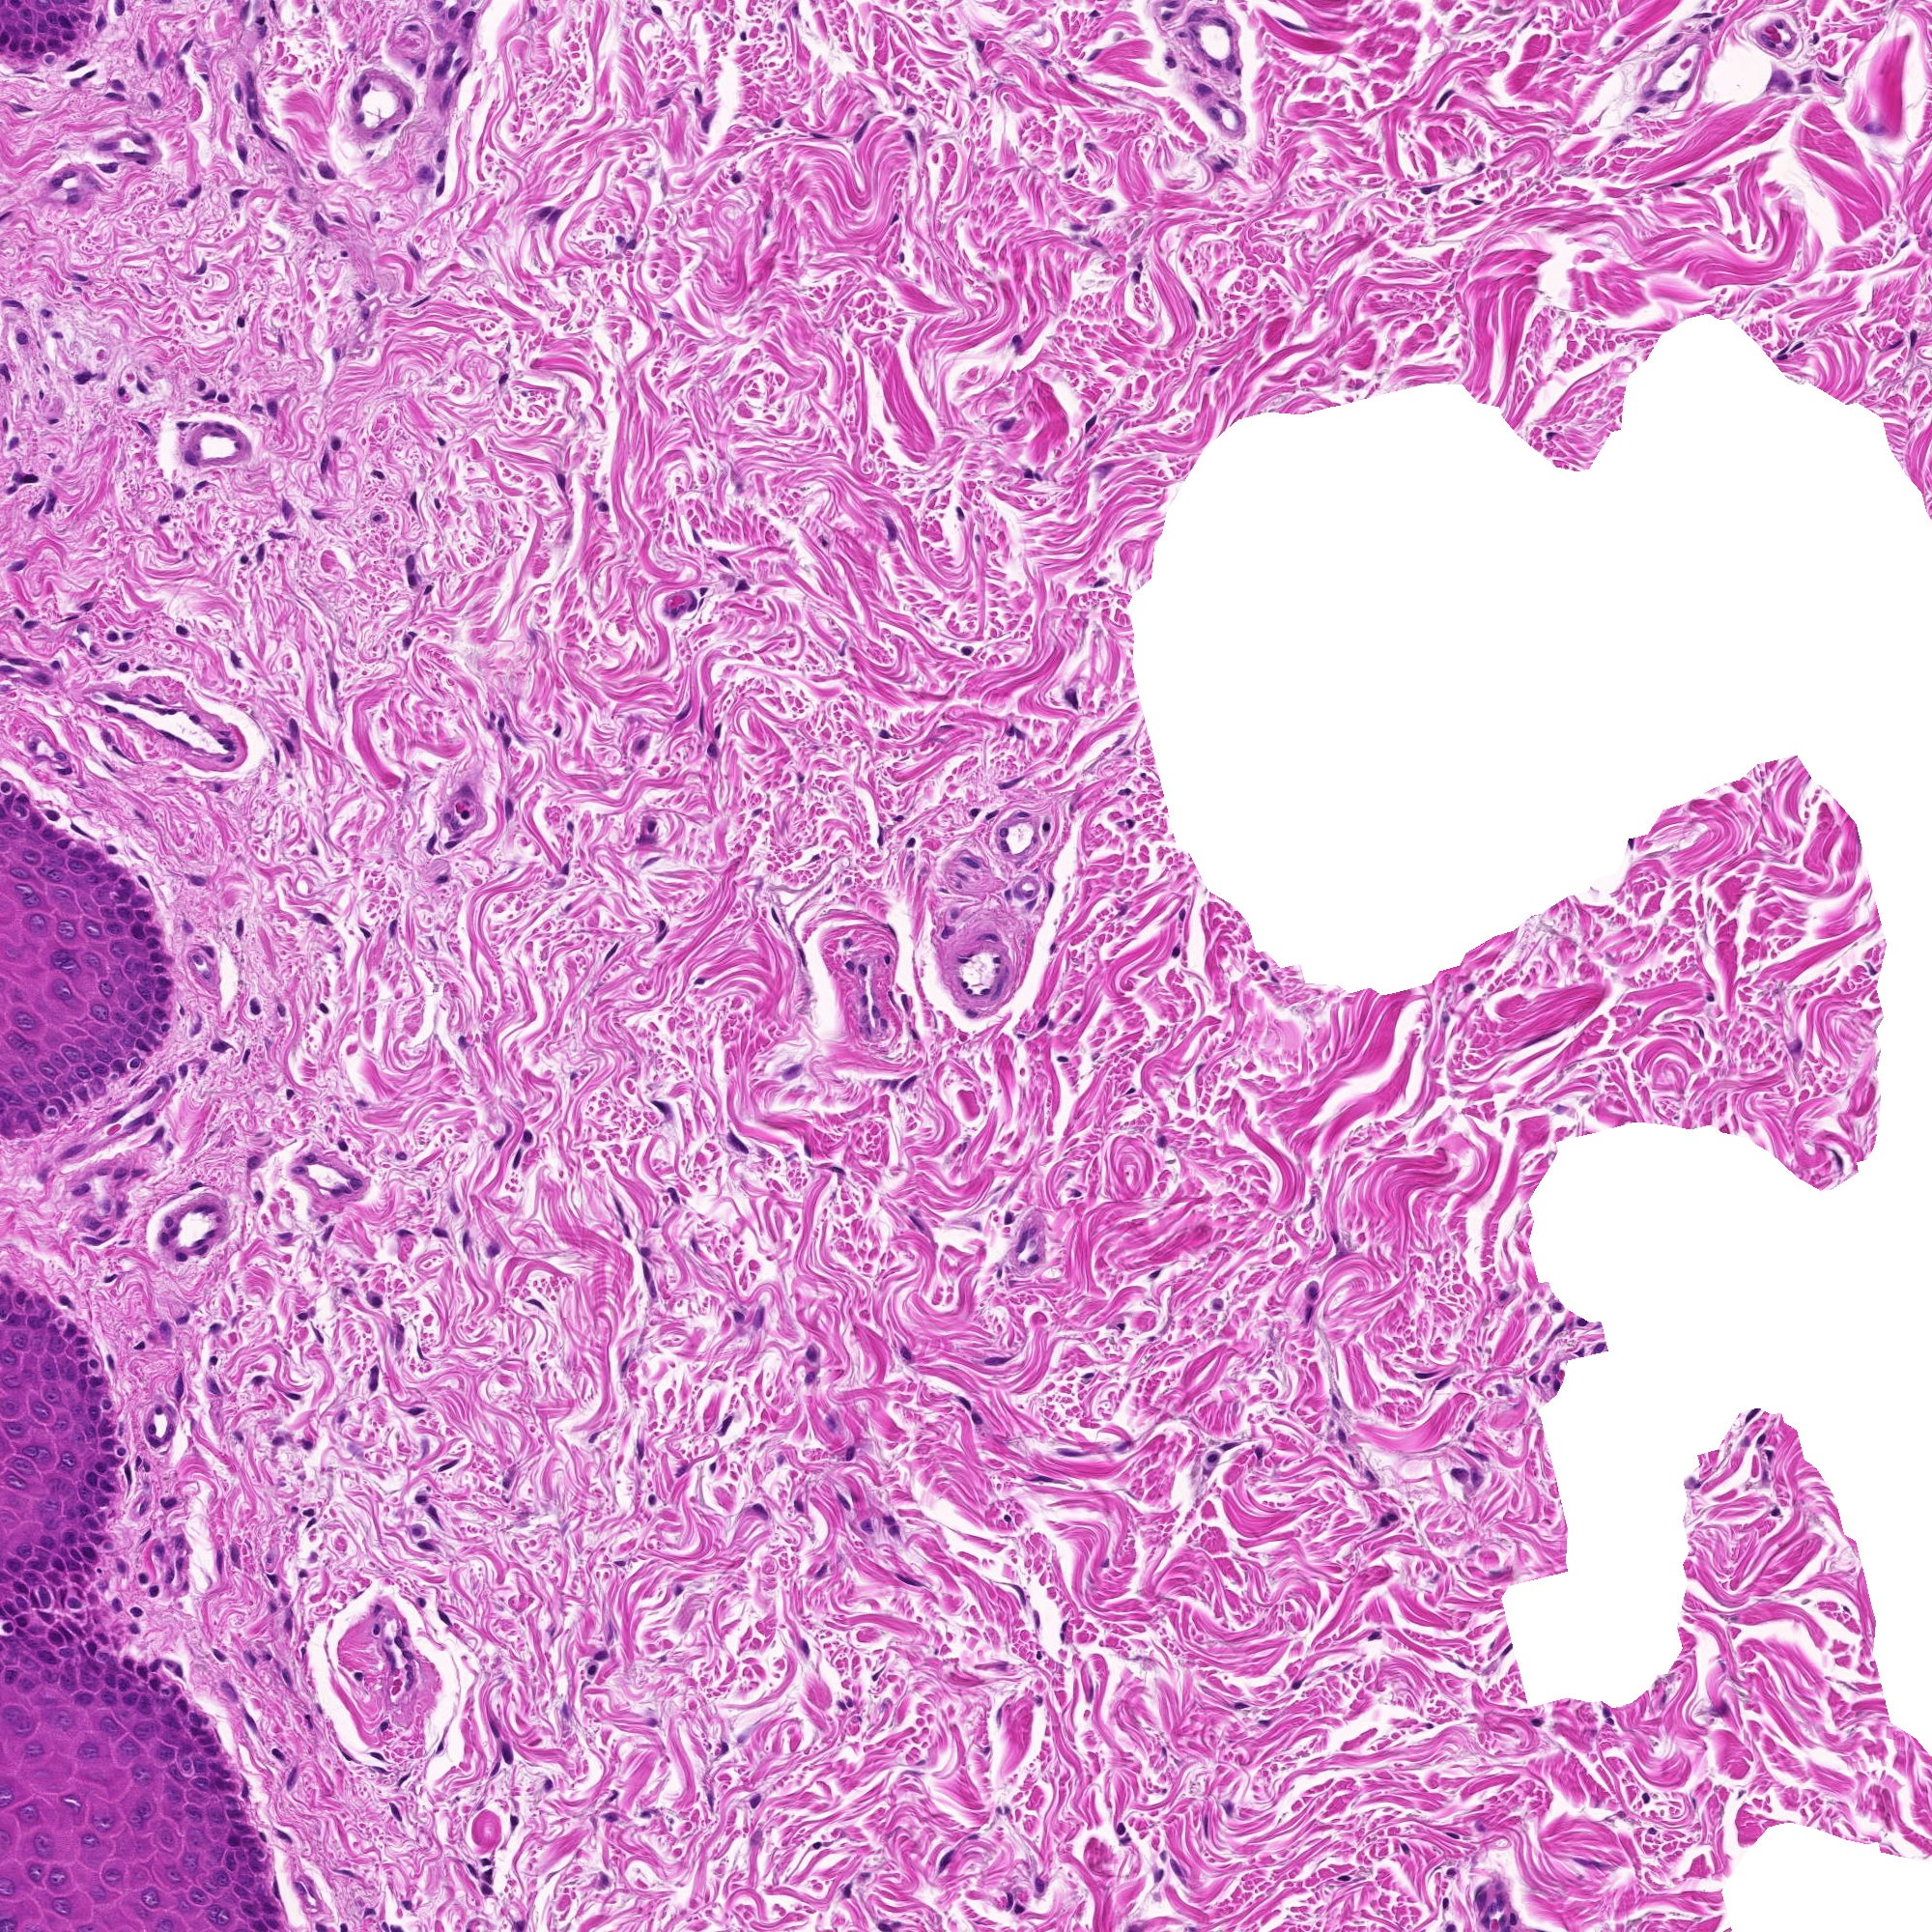epithelial: (2, 805, 34, 839), (71, 1734, 104, 1766), (9, 34, 41, 65), (53, 19, 85, 51), (34, 39, 65, 71), (435, 30, 467, 62), (25, 19, 57, 51), (320, 338, 352, 370), (361, 117, 393, 149), (11, 48, 42, 80), (120, 915, 152, 947), (96, 855, 127, 886), (50, 941, 81, 973), (5, 789, 37, 821), (11, 796, 42, 828), (18, 823, 50, 855), (78, 918, 110, 950), (127, 876, 159, 908), (96, 865, 127, 897), (27, 832, 58, 863), (111, 922, 143, 954), (76, 941, 108, 973), (103, 1049, 134, 1081), (25, 1090, 57, 1122), (55, 1315, 87, 1346), (88, 1040, 120, 1072), (145, 978, 177, 1010), (65, 1369, 97, 1401), (9, 1100, 41, 1132), (18, 1286, 50, 1318), (4, 1026, 35, 1058), (30, 1299, 62, 1330), (53, 1359, 85, 1391), (34, 1093, 65, 1125), (191, 1192, 223, 1224), (74, 1415, 106, 1447), (30, 1053, 62, 1085), (74, 1389, 106, 1421), (65, 1421, 97, 1453), (2, 1058, 34, 1090), (65, 1355, 97, 1387), (27, 1159, 58, 1191), (71, 1042, 103, 1074), (51, 1067, 83, 1099), (96, 1021, 127, 1053), (25, 1315, 57, 1346), (134, 994, 166, 1026), (34, 1345, 65, 1376), (191, 959, 223, 991), (85, 1401, 117, 1433), (37, 1024, 69, 1056), (4, 1095, 35, 1127), (4, 1571, 35, 1603), (218, 1824, 249, 1856), (23, 1548, 55, 1580), (30, 1601, 62, 1633), (74, 1537, 106, 1569), (76, 1631, 108, 1663), (5, 1605, 37, 1637), (87, 1449, 119, 1481), (30, 1640, 62, 1672), (16, 1562, 48, 1594), (37, 1562, 69, 1594), (80, 1454, 111, 1486), (67, 1683, 99, 1714), (58, 1614, 90, 1645), (126, 1656, 157, 1688), (32, 1527, 64, 1559), (195, 1727, 226, 1759), (18, 1583, 50, 1615), (67, 1493, 99, 1525), (81, 1523, 113, 1555), (226, 1812, 258, 1844), (96, 1647, 127, 1679), (180, 1714, 212, 1746), (50, 1583, 81, 1615), (60, 1557, 92, 1589), (76, 1507, 108, 1539), (244, 1898, 276, 1930), (74, 1667, 106, 1698), (134, 1679, 166, 1711), (74, 1548, 106, 1580), (202, 1801, 234, 1833), (88, 1640, 120, 1672), (248, 1884, 280, 1916), (142, 1675, 173, 1707), (87, 1490, 119, 1522), (188, 1741, 219, 1773), (127, 1716, 159, 1748), (76, 1582, 108, 1614), (159, 1697, 191, 1729), (173, 1702, 205, 1734), (34, 1573, 65, 1605), (2, 1622, 34, 1654), (134, 1713, 166, 1744), (27, 1440, 58, 1472), (46, 1614, 78, 1645), (35, 1610, 67, 1642), (96, 1633, 127, 1665), (74, 1824, 106, 1856), (12, 1796, 44, 1828), (9, 1557, 41, 1589), (136, 1881, 168, 1913), (226, 1833, 258, 1865), (175, 1847, 207, 1879), (117, 1674, 149, 1706), (35, 1647, 67, 1679), (2, 1704, 34, 1736), (41, 1665, 73, 1697), (234, 1881, 265, 1913), (161, 1863, 193, 1895), (150, 1821, 182, 1852), (81, 1683, 113, 1714), (108, 1698, 140, 1730), (35, 1488, 67, 1520), (156, 1769, 188, 1801), (39, 1532, 71, 1564), (103, 1440, 134, 1472), (73, 1484, 104, 1516), (214, 1812, 246, 1844), (18, 1651, 50, 1683), (101, 1660, 133, 1691), (205, 1789, 237, 1821), (791, 978, 823, 1010), (740, 1822, 771, 1854), (1345, 225, 1376, 257), (1185, 1214, 1217, 1246), (134, 915, 165, 948), (35, 828, 69, 858), (50, 844, 80, 878), (65, 1329, 96, 1362), (69, 1056, 103, 1086), (127, 1017, 157, 1051), (44, 1311, 78, 1341), (88, 1477, 119, 1511), (64, 1568, 94, 1601), (41, 1580, 74, 1610), (50, 1564, 83, 1594), (62, 1599, 96, 1629), (62, 1527, 96, 1557), (51, 1608, 85, 1638), (50, 7, 81, 37), (23, 30, 55, 60), (11, 14, 42, 44), (37, 28, 69, 58), (35, 19, 67, 50), (21, 12, 51, 44), (16, 5, 48, 35), (58, 180, 88, 212), (0, 30, 32, 60), (143, 44, 175, 74), (4, 18, 34, 50), (19, 37, 50, 69), (65, 0, 97, 30), (48, 30, 78, 62), (265, 327, 295, 359), (44, 14, 76, 44), (5, 5, 35, 37), (110, 899, 142, 929), (99, 913, 131, 943), (48, 828, 80, 858), (142, 941, 172, 973), (32, 817, 62, 849), (126, 908, 157, 938), (138, 925, 168, 957), (124, 885, 154, 916), (14, 840, 46, 870), (92, 897, 122, 929), (87, 878, 117, 909), (81, 856, 113, 886), (67, 839, 97, 870), (80, 863, 110, 895), (35, 858, 65, 890), (120, 899, 150, 931), (103, 932, 134, 962), (42, 837, 73, 869), (7, 858, 37, 890), (449, 775, 481, 805), (57, 833, 87, 865), (117, 943, 149, 973), (120, 925, 150, 957), (51, 920, 83, 950), (41, 849, 71, 881), (74, 909, 106, 939), (41, 941, 71, 973), (35, 840, 65, 872), (42, 816, 73, 847), (30, 853, 60, 885), (14, 814, 44, 846), (88, 915, 120, 945), (113, 908, 143, 939), (4, 876, 35, 906), (46, 911, 78, 941), (96, 881, 127, 911), (127, 1031, 159, 1062), (78, 1398, 110, 1428), (81, 1366, 111, 1398), (143, 998, 175, 1028), (147, 968, 179, 998), (19, 1307, 51, 1338), (67, 1077, 97, 1109), (83, 1054, 115, 1085), (4, 1283, 35, 1313), (120, 1046, 152, 1076), (46, 1090, 76, 1122), (92, 1412, 122, 1444), (37, 1315, 67, 1346), (129, 978, 161, 1008), (104, 1001, 134, 1033), (0, 1304, 30, 1336), (34, 1355, 64, 1387), (41, 1329, 73, 1359), (51, 1081, 83, 1111), (34, 1072, 64, 1104), (119, 1014, 150, 1044), (4, 1327, 35, 1357), (12, 1299, 42, 1330), (90, 1389, 122, 1419), (48, 980, 78, 1012), (117, 1023, 147, 1054), (62, 1394, 92, 1426), (25, 1398, 57, 1428), (85, 1000, 117, 1030), (80, 1376, 110, 1408), (78, 1207, 108, 1238), (60, 1322, 90, 1353), (134, 1005, 165, 1037), (90, 973, 122, 1003), (134, 1024, 166, 1054), (2, 1085, 32, 1116), (55, 1037, 87, 1067), (14, 1030, 44, 1062), (149, 991, 179, 1023), (58, 1063, 90, 1093), (2, 980, 32, 1012), (104, 1192, 136, 1223), (4, 993, 34, 1024), (81, 1067, 113, 1097), (81, 1412, 113, 1442), (46, 1408, 76, 1440), (28, 1288, 58, 1320), (35, 1380, 67, 1410), (110, 978, 140, 1010), (19, 1391, 51, 1421), (50, 1350, 81, 1380), (60, 1339, 92, 1369), (41, 1077, 73, 1108), (71, 1031, 103, 1062), (111, 1008, 142, 1040), (122, 973, 154, 1003), (5, 1293, 35, 1325), (0, 1369, 30, 1401), (35, 1062, 65, 1093), (19, 1325, 50, 1357), (103, 959, 133, 991), (39, 1352, 71, 1382), (30, 1085, 62, 1115), (18, 1010, 48, 1042), (11, 1085, 41, 1116), (57, 985, 87, 1017), (41, 1622, 73, 1652), (7, 1536, 39, 1566), (140, 1667, 170, 1698), (55, 1522, 85, 1553), (28, 1582, 58, 1614), (42, 1548, 73, 1580), (108, 1668, 140, 1698), (166, 1690, 198, 1720), (111, 1654, 142, 1686), (90, 1470, 122, 1500), (113, 1684, 145, 1714), (234, 1895, 265, 1925), (203, 1767, 234, 1799), (182, 1706, 214, 1736), (196, 1737, 228, 1767), (53, 1667, 83, 1698), (214, 1845, 244, 1877), (16, 1629, 48, 1660), (218, 1798, 249, 1828), (78, 1651, 108, 1683), (51, 1637, 81, 1668), (253, 1893, 285, 1923), (129, 1690, 161, 1720), (184, 1748, 214, 1780), (58, 1545, 90, 1575), (207, 1757, 237, 1789), (150, 1739, 182, 1769), (51, 1621, 81, 1652), (19, 1614, 51, 1644), (161, 1759, 191, 1790), (205, 1861, 237, 1891), (88, 1622, 119, 1654), (67, 1476, 99, 1506), (58, 1497, 88, 1529), (51, 1550, 83, 1580), (34, 1660, 64, 1691), (234, 1829, 265, 1859), (147, 1686, 177, 1718), (53, 1654, 85, 1684), (12, 1668, 42, 1700), (12, 1440, 44, 1470), (71, 1656, 103, 1686), (232, 1865, 264, 1895), (159, 1716, 189, 1748), (157, 1674, 188, 1706), (188, 1720, 218, 1752), (182, 1879, 212, 1911), (212, 1771, 244, 1801), (172, 1748, 202, 1780), (67, 1626, 97, 1658), (182, 1727, 214, 1757), (18, 1856, 50, 1886), (12, 1644, 42, 1675), (119, 1665, 150, 1695), (202, 1897, 234, 1927), (258, 1881, 290, 1911), (23, 1635, 53, 1667), (97, 1858, 129, 1888), (34, 1509, 65, 1539), (18, 1573, 48, 1605), (115, 1734, 145, 1766), (39, 1867, 69, 1898), (223, 1805, 255, 1835), (30, 1619, 62, 1649), (198, 1760, 230, 1790), (28, 1536, 58, 1568), (55, 1532, 87, 1562), (90, 1658, 122, 1688), (90, 1805, 122, 1835), (19, 1603, 51, 1633), (51, 1891, 81, 1923), (67, 1640, 99, 1670), (14, 1543, 44, 1575), (69, 1615, 101, 1645), (25, 1596, 57, 1626), (244, 1867, 274, 1898), (202, 1815, 234, 1845), (156, 1727, 186, 1759), (78, 1529, 108, 1560), (85, 1879, 115, 1911), (32, 1591, 62, 1622), (124, 1806, 156, 1836), (251, 1875, 281, 1907), (161, 1799, 191, 1831), (241, 1888, 271, 1920), (103, 1686, 134, 1716), (212, 1854, 242, 1886), (27, 1626, 58, 1656), (209, 1900, 241, 1930), (129, 1764, 161, 1794), (228, 1787, 258, 1819), (106, 1463, 136, 1495), (58, 1790, 88, 1822), (35, 1545, 65, 1576), (228, 1851, 260, 1881), (74, 1518, 104, 1550), (150, 1900, 182, 1930), (198, 1872, 230, 1902), (129, 1898, 159, 1930), (127, 1704, 157, 1736), (170, 1891, 200, 1923), (60, 1633, 90, 1665), (65, 1674, 97, 1704), (180, 1783, 211, 1815), (150, 1714, 182, 1744), (42, 1592, 73, 1624), (156, 1856, 188, 1886), (30, 1835, 60, 1867), (80, 1555, 110, 1587), (173, 1766, 205, 1796), (44, 1442, 76, 1472), (165, 1711, 196, 1741), (816, 1407, 846, 1438), (508, 1499, 538, 1530), (550, 1695, 580, 1727), (594, 1617, 626, 1647), (538, 1615, 568, 1647), (1090, 453, 1120, 485), (1180, 0, 1212, 30), (975, 920, 1005, 952), (1108, 893, 1138, 925), (1058, 789, 1088, 821), (971, 977, 1001, 1008), (984, 970, 1014, 1001), (1320, 1385, 1350, 1417), (1369, 1559, 1399, 1591), (1074, 1677, 1106, 1707), (1076, 1829, 1108, 1859), (1679, 789, 1711, 819), (1780, 1033, 1812, 1063), (1578, 985, 1610, 1016), (1484, 1886, 1514, 1918), (1488, 1898, 1520, 1928), (1707, 1693, 1737, 1725), (1465, 1810, 1495, 1842), (37, 5, 67, 35), (12, 0, 42, 30), (92, 131, 122, 161), (437, 0, 467, 30), (19, 805, 50, 835), (108, 879, 138, 909), (60, 846, 90, 876), (110, 870, 140, 901), (78, 840, 108, 870), (103, 860, 133, 890), (12, 883, 42, 913), (88, 862, 119, 892), (25, 812, 55, 842), (129, 931, 159, 961), (71, 849, 101, 879), (19, 886, 50, 916), (21, 909, 51, 939), (65, 869, 96, 899), (129, 943, 159, 973), (119, 879, 149, 909), (0, 817, 30, 847), (50, 881, 80, 911), (127, 920, 157, 950), (113, 886, 143, 916), (76, 1350, 106, 1380), (127, 1001, 157, 1031), (19, 1109, 50, 1139), (119, 991, 149, 1021), (131, 968, 161, 998), (16, 1076, 46, 1106), (4, 1415, 34, 1445), (9, 1007, 39, 1037), (60, 1364, 90, 1394), (12, 1359, 42, 1389), (73, 1362, 103, 1392), (50, 1325, 80, 1355), (42, 973, 73, 1003), (94, 1422, 124, 1453), (44, 1046, 74, 1076), (97, 1037, 127, 1067), (94, 1053, 124, 1083), (83, 1422, 113, 1453), (104, 1023, 134, 1053), (32, 1389, 62, 1419), (76, 1463, 106, 1493), (7, 1585, 37, 1615), (94, 1683, 124, 1713), (60, 1589, 90, 1619), (156, 1706, 186, 1736), (51, 1451, 81, 1481), (239, 1840, 269, 1870), (186, 1767, 216, 1798), (241, 1851, 271, 1881), (179, 1798, 209, 1828), (5, 1596, 35, 1626), (97, 1445, 127, 1476), (228, 1874, 258, 1904), (87, 1502, 117, 1532), (225, 1773, 255, 1803), (80, 1642, 110, 1672), (92, 1711, 122, 1741), (159, 1780, 189, 1810), (126, 1798, 156, 1828), (216, 1789, 246, 1819), (223, 1842, 253, 1872), (106, 1645, 136, 1675), (41, 1856, 71, 1886), (48, 1537, 78, 1568), (65, 1550, 96, 1580), (42, 1470, 73, 1500), (202, 1836, 232, 1867), (42, 1569, 73, 1599), (184, 1776, 214, 1806), (55, 1444, 85, 1474), (19, 1736, 50, 1766), (175, 1721, 205, 1752), (27, 1829, 57, 1859), (78, 1472, 108, 1502), (122, 1755, 152, 1785), (0, 1637, 30, 1667), (76, 1603, 106, 1633), (5, 1449, 35, 1479), (159, 1736, 189, 1766), (288, 1874, 318, 1904), (32, 1686, 62, 1716), (7, 1468, 37, 1499), (81, 1612, 111, 1642), (193, 1799, 223, 1829), (180, 1824, 211, 1854), (41, 1637, 71, 1667), (32, 1555, 62, 1585), (211, 1782, 241, 1812), (9, 1456, 39, 1486), (51, 1476, 81, 1506), (28, 1495, 58, 1525), (246, 1844, 276, 1874), (235, 1817, 265, 1847), (625, 729, 655, 759), (552, 518, 582, 548), (518, 621, 548, 651), (851, 1012, 881, 1042), (609, 1350, 639, 1380), (479, 1235, 510, 1265), (869, 1902, 899, 1932), (1353, 32, 1384, 62), (1302, 28, 1332, 58), (982, 943, 1012, 973), (1859, 113, 1890, 143), (1810, 796, 1840, 826), (1847, 1093, 1877, 1123), (1476, 1893, 1506, 1923), (1465, 1882, 1495, 1913), (1472, 1900, 1502, 1930), (127, 893, 156, 925), (2, 1550, 30, 1582), (25, 1566, 57, 1594), (96, 1456, 124, 1488), (127, 1675, 156, 1707), (32, 12, 62, 41), (145, 1010, 175, 1039), (0, 1392, 28, 1422), (96, 1665, 124, 1695), (202, 1752, 230, 1782), (172, 1734, 202, 1762), (12, 1617, 41, 1647), (0, 1661, 28, 1691), (257, 1902, 287, 1930), (9, 1713, 39, 1741), (0, 1610, 28, 1640)
fibroblast and endothelial: (165, 51, 196, 85), (150, 708, 182, 741), (142, 1534, 175, 1566), (1196, 1442, 1230, 1474), (1734, 1421, 1767, 1453), (207, 382, 239, 414), (193, 377, 225, 409), (244, 5, 276, 37), (310, 156, 341, 188), (425, 140, 456, 172), (244, 391, 276, 423), (444, 51, 476, 83), (203, 412, 235, 444), (85, 5, 117, 37), (133, 41, 165, 73), (5, 322, 37, 354), (106, 134, 138, 166), (25, 379, 57, 410), (276, 177, 308, 209), (246, 14, 278, 46), (442, 64, 474, 96), (57, 165, 88, 196), (87, 361, 119, 393), (94, 694, 126, 725), (244, 536, 276, 568), (301, 499, 333, 531), (5, 600, 37, 632), (264, 738, 295, 770), (60, 812, 92, 844), (271, 492, 303, 524), (349, 916, 380, 948), (426, 824, 458, 856), (391, 625, 423, 656), (361, 501, 393, 533), (421, 487, 453, 518), (138, 681, 170, 713), (442, 805, 474, 837), (92, 750, 124, 782), (87, 837, 119, 869), (166, 699, 198, 731), (320, 936, 352, 968), (172, 911, 203, 943), (78, 1224, 110, 1256), (127, 1104, 159, 1136), (327, 1129, 359, 1161), (198, 1311, 230, 1343), (278, 1380, 310, 1412), (94, 1346, 126, 1378), (338, 1164, 370, 1196), (149, 1313, 180, 1345), (134, 1077, 166, 1109), (193, 1219, 225, 1251), (265, 994, 297, 1026), (384, 1139, 416, 1171), (154, 1208, 186, 1240), (285, 1154, 317, 1185), (403, 1336, 435, 1368), (159, 1235, 191, 1267), (269, 1221, 301, 1253), (198, 1212, 230, 1244), (152, 1131, 184, 1162), (166, 994, 198, 1026), (216, 1031, 248, 1063), (120, 1054, 152, 1086), (242, 1642, 274, 1674), (402, 1514, 433, 1546), (384, 1624, 416, 1656), (361, 1739, 393, 1771), (377, 1645, 409, 1677), (285, 1495, 317, 1527), (391, 1888, 423, 1920), (288, 1628, 320, 1660), (361, 1592, 393, 1624), (412, 1488, 444, 1520), (393, 1649, 425, 1681), (464, 1847, 495, 1879), (264, 1571, 295, 1603), (536, 196, 568, 228), (895, 120, 927, 152), (893, 99, 925, 131), (646, 909, 678, 941), (490, 725, 522, 757), (492, 791, 524, 823), (485, 706, 517, 738), (541, 715, 573, 747), (895, 826, 927, 858), (658, 596, 690, 628), (883, 801, 915, 833), (832, 925, 863, 957), (548, 853, 580, 885), (554, 810, 586, 842), (709, 1408, 741, 1440), (603, 1192, 635, 1224), (743, 1300, 775, 1332), (628, 1235, 660, 1267), (893, 1065, 925, 1097), (899, 1019, 931, 1051), (777, 1054, 809, 1086), (874, 980, 906, 1012), (878, 1513, 909, 1545), (586, 1638, 617, 1670), (479, 1752, 511, 1783), (740, 1785, 771, 1817), (828, 1688, 860, 1720), (479, 1711, 511, 1743), (833, 1437, 865, 1468), (764, 1444, 796, 1476), (1412, 173, 1444, 205), (962, 28, 994, 60), (1274, 9, 1306, 41), (1187, 73, 1219, 104), (1090, 191, 1122, 223), (1212, 12, 1244, 44), (1198, 4, 1230, 35), (1196, 354, 1228, 386), (1223, 99, 1254, 131), (1215, 39, 1247, 71), (1210, 53, 1242, 85), (1000, 717, 1031, 748), (1109, 775, 1141, 807), (1113, 807, 1145, 839), (1014, 885, 1046, 916), (1005, 800, 1037, 832), (1008, 878, 1040, 909), (1408, 1359, 1440, 1391), (1295, 1286, 1327, 1318), (1072, 1361, 1104, 1392), (1146, 1125, 1178, 1157), (1201, 1288, 1233, 1320), (1295, 1187, 1327, 1219), (961, 973, 993, 1005), (1212, 1421, 1244, 1453), (985, 1256, 1017, 1288), (1389, 1833, 1421, 1865), (1336, 1444, 1368, 1476), (1023, 1640, 1054, 1672), (989, 1794, 1021, 1826), (970, 1734, 1001, 1766), (1897, 320, 1928, 352), (1789, 60, 1821, 92), (1762, 9, 1794, 41), (1766, 340, 1798, 372), (1645, 80, 1677, 111), (1884, 327, 1916, 359), (1773, 28, 1805, 60), (1633, 76, 1665, 108), (1603, 25, 1635, 57), (1541, 1299, 1573, 1330), (1539, 1368, 1571, 1399), (1566, 1306, 1598, 1338), (1546, 1311, 1578, 1343), (1746, 1421, 1778, 1453), (1486, 1373, 1518, 1405), (1578, 1309, 1610, 1341), (1741, 1410, 1773, 1442), (1578, 1847, 1610, 1879), (1520, 1706, 1552, 1737), (1760, 1495, 1792, 1527), (1647, 1683, 1679, 1714), (1750, 1447, 1782, 1479), (104, 377, 134, 410), (166, 409, 196, 442), (244, 993, 278, 1023), (76, 361, 108, 391), (437, 58, 469, 88), (425, 172, 455, 203), (226, 138, 258, 168), (425, 55, 456, 85), (242, 117, 274, 147), (127, 138, 159, 168), (12, 462, 42, 494), (124, 37, 156, 67), (92, 152, 124, 182), (41, 166, 71, 198), (62, 67, 92, 99), (223, 177, 253, 209), (120, 373, 152, 403), (320, 428, 352, 458), (214, 416, 246, 446), (225, 306, 257, 336), (235, 69, 267, 99), (405, 51, 435, 83), (398, 239, 430, 269), (313, 205, 345, 235), (117, 142, 149, 172), (103, 69, 133, 101), (262, 129, 292, 161), (363, 458, 395, 488), (186, 253, 216, 285), (51, 159, 83, 189), (304, 207, 334, 239), (343, 103, 373, 134), (225, 80, 257, 110), (5, 92, 35, 124), (235, 80, 267, 110), (349, 67, 379, 99), (343, 280, 375, 310), (30, 297, 62, 327), (172, 30, 203, 60), (241, 103, 271, 134), (175, 444, 207, 474), (432, 81, 462, 113), (313, 437, 343, 469), (41, 320, 73, 350), (2, 462, 34, 492), (361, 202, 391, 234), (329, 237, 359, 269), (324, 203, 356, 234), (69, 46, 99, 78), (379, 111, 409, 143), (223, 430, 255, 460), (189, 60, 219, 92), (76, 4, 108, 34), (0, 426, 30, 458), (354, 138, 384, 170), (78, 168, 110, 198), (81, 159, 111, 191), (182, 412, 214, 442), (398, 563, 428, 594), (223, 911, 255, 941), (154, 720, 184, 752), (219, 644, 249, 676), (396, 554, 426, 586), (318, 665, 350, 695), (416, 826, 446, 858), (99, 681, 131, 711), (212, 729, 244, 759), (37, 800, 69, 830), (120, 653, 152, 683), (274, 731, 306, 761), (108, 649, 138, 681), (165, 616, 196, 646), (437, 828, 467, 860), (396, 485, 428, 515), (110, 621, 142, 651), (35, 485, 67, 515), (152, 695, 182, 727), (449, 796, 479, 828), (426, 863, 456, 895), (129, 865, 159, 897), (2, 646, 34, 676), (278, 711, 310, 741), (27, 663, 58, 694), (228, 543, 260, 573), (182, 865, 214, 895), (96, 833, 127, 863), (71, 591, 103, 621), (149, 502, 179, 534), (412, 573, 444, 603), (113, 701, 143, 732), (165, 725, 195, 757), (14, 609, 44, 640), (212, 743, 242, 775), (92, 720, 122, 752), (143, 690, 173, 722), (4, 550, 34, 582), (28, 801, 58, 833), (48, 743, 78, 775), (127, 685, 157, 717), (202, 771, 234, 801), (41, 649, 71, 681), (65, 612, 97, 642), (78, 635, 110, 665), (57, 602, 87, 633), (297, 835, 329, 865), (124, 801, 156, 832), (433, 803, 465, 833), (170, 540, 202, 570), (117, 694, 149, 724), (65, 596, 97, 626), (239, 543, 271, 573), (278, 722, 310, 752), (442, 821, 472, 853), (92, 685, 122, 717), (39, 740, 71, 770), (184, 1230, 216, 1260), (166, 1240, 196, 1272), (134, 1414, 165, 1445), (142, 1118, 173, 1148), (425, 1217, 455, 1249), (166, 1054, 196, 1086), (150, 1223, 180, 1254), (203, 1031, 235, 1062), (308, 993, 340, 1023), (198, 1343, 228, 1375), (311, 1217, 343, 1247), (449, 1224, 481, 1254), (154, 1415, 184, 1447), (157, 1215, 188, 1247), (359, 1286, 391, 1316), (81, 1215, 111, 1247), (242, 1182, 274, 1212), (400, 1396, 432, 1426), (147, 1065, 177, 1097), (101, 1100, 133, 1131), (288, 1299, 318, 1330), (180, 1054, 212, 1085), (241, 1364, 272, 1394), (94, 1263, 126, 1293), (120, 1109, 150, 1141), (439, 1191, 469, 1223), (295, 1143, 327, 1173), (196, 1371, 228, 1401), (166, 1304, 198, 1334), (179, 1169, 211, 1200), (387, 1217, 418, 1249), (133, 1099, 165, 1129), (122, 1157, 152, 1189), (104, 1159, 134, 1191), (237, 1148, 269, 1178), (303, 1320, 333, 1352), (331, 1274, 361, 1306), (140, 1422, 172, 1453), (119, 1065, 149, 1097), (384, 1318, 414, 1350), (57, 1136, 88, 1166), (67, 1173, 97, 1205), (345, 1088, 377, 1118), (292, 1421, 322, 1453), (180, 1012, 211, 1044), (223, 1421, 255, 1451), (156, 1063, 186, 1095), (138, 1070, 170, 1100), (127, 1072, 157, 1104), (175, 1233, 207, 1263), (88, 1155, 120, 1185), (345, 1254, 377, 1284), (357, 1371, 389, 1401), (96, 1191, 127, 1221), (126, 1116, 157, 1146), (133, 1325, 163, 1357), (163, 1223, 193, 1254), (198, 1198, 228, 1230), (432, 1451, 464, 1481), (410, 1529, 441, 1560), (456, 1852, 487, 1884), (138, 1651, 170, 1681), (150, 1488, 182, 1518), (203, 1543, 235, 1573), (161, 1652, 191, 1684), (391, 1638, 423, 1668), (131, 1520, 163, 1550), (203, 1640, 234, 1672), (403, 1484, 435, 1514), (272, 1608, 303, 1640), (165, 1546, 195, 1578), (395, 1658, 425, 1690), (154, 1560, 184, 1592), (368, 1709, 398, 1741), (257, 1591, 287, 1622), (165, 1530, 195, 1562), (106, 1552, 138, 1582), (403, 1587, 435, 1617), (127, 1488, 159, 1518), (276, 1762, 308, 1792), (464, 1859, 494, 1891), (214, 1675, 246, 1706), (386, 1764, 418, 1794), (159, 1555, 191, 1585), (354, 1897, 386, 1927), (246, 1822, 278, 1852), (372, 1638, 403, 1668), (120, 1651, 152, 1681), (168, 1569, 198, 1601), (364, 1748, 395, 1780), (387, 1615, 418, 1647), (124, 1465, 156, 1495), (152, 1550, 184, 1580), (403, 1525, 433, 1557), (465, 1874, 495, 1905), (253, 1640, 283, 1672), (154, 1532, 184, 1564), (111, 1591, 142, 1622), (255, 1543, 287, 1573), (405, 1504, 435, 1536), (683, 80, 713, 111), (720, 163, 752, 193), (614, 228, 646, 258), (487, 363, 518, 393), (545, 464, 577, 494), (648, 87, 679, 117), (879, 202, 909, 234), (605, 225, 635, 257), (651, 299, 681, 331), (699, 724, 731, 754), (635, 810, 667, 840), (727, 570, 757, 602), (702, 715, 732, 747), (708, 545, 740, 575), (874, 513, 906, 543), (678, 586, 708, 617), (671, 699, 702, 729), (786, 939, 817, 970), (690, 713, 722, 743), (869, 718, 899, 750), (929, 916, 961, 947), (488, 717, 520, 747), (669, 593, 701, 623), (761, 901, 791, 932), (596, 936, 626, 968), (870, 943, 902, 973), (807, 525, 839, 556), (679, 520, 711, 550), (499, 724, 531, 754), (835, 941, 865, 973), (784, 763, 816, 793), (931, 711, 962, 741), (552, 892, 584, 922), (646, 1092, 678, 1122), (520, 1286, 550, 1318), (501, 1141, 533, 1171), (513, 1120, 543, 1152), (485, 1125, 515, 1157), (722, 1300, 754, 1330), (890, 1339, 922, 1369), (794, 1362, 826, 1392), (876, 1067, 906, 1099), (796, 1339, 828, 1369), (658, 1178, 688, 1210), (610, 1214, 642, 1244), (637, 1272, 667, 1304), (678, 1230, 709, 1260), (865, 1003, 897, 1033), (902, 1208, 934, 1238), (718, 1122, 748, 1154), (849, 984, 879, 1016), (630, 1246, 660, 1277), (497, 1123, 529, 1154), (579, 1421, 609, 1453), (490, 1116, 520, 1148), (893, 1566, 925, 1596), (929, 1845, 961, 1875), (743, 1495, 775, 1525), (835, 1484, 865, 1516), (499, 1805, 529, 1836), (596, 1801, 626, 1833), (801, 1829, 832, 1861), (784, 1490, 814, 1522), (635, 1484, 667, 1514), (697, 1451, 727, 1483), (667, 1454, 697, 1486), (632, 1798, 662, 1829), (805, 1557, 837, 1587), (695, 1782, 725, 1813), (860, 1660, 890, 1691), (586, 1865, 617, 1895), (485, 1729, 515, 1760), (847, 1861, 879, 1891), (637, 1706, 667, 1737), (502, 1900, 534, 1930), (686, 1451, 718, 1481), (1014, 458, 1046, 488), (1074, 407, 1104, 439), (1200, 97, 1230, 129), (991, 410, 1023, 441), (1154, 46, 1185, 76), (1120, 260, 1152, 290), (1200, 48, 1231, 78), (1054, 157, 1086, 188), (1001, 326, 1033, 356), (1079, 39, 1109, 71), (1178, 55, 1210, 85), (1062, 211, 1092, 242), (1028, 48, 1060, 78), (1184, 35, 1215, 65), (1215, 23, 1246, 55), (1422, 85, 1453, 117), (1074, 428, 1106, 458), (1056, 683, 1088, 713), (1031, 810, 1062, 842), (1161, 936, 1191, 968), (996, 878, 1026, 909), (1109, 738, 1141, 768), (1019, 823, 1049, 855), (1293, 1297, 1325, 1327), (982, 1345, 1012, 1376), (961, 1403, 993, 1433), (1019, 1244, 1051, 1274), (1297, 1276, 1327, 1307), (1028, 1005, 1058, 1037), (1139, 1258, 1169, 1290), (1106, 1309, 1136, 1341), (1327, 1419, 1357, 1451), (1419, 1362, 1449, 1394), (1062, 1001, 1092, 1033), (1001, 1893, 1033, 1923), (1371, 1504, 1403, 1534), (1104, 1813, 1136, 1844), (1026, 1463, 1056, 1495), (1047, 1614, 1079, 1644), (1143, 1859, 1173, 1891), (1005, 1578, 1037, 1608), (1359, 1621, 1391, 1651), (1109, 1824, 1139, 1856), (994, 1884, 1024, 1916), (984, 1651, 1016, 1681), (1214, 1792, 1244, 1824), (1021, 1605, 1053, 1635), (1191, 1808, 1221, 1840), (1056, 1437, 1086, 1468), (1191, 1456, 1223, 1486), (1154, 1845, 1185, 1875), (984, 1697, 1014, 1729), (1767, 67, 1799, 97), (1656, 25, 1688, 55), (1815, 62, 1847, 92), (1626, 96, 1658, 126), (1782, 331, 1813, 361), (1652, 48, 1683, 80), (1799, 23, 1829, 55), (1690, 14, 1720, 46), (1805, 60, 1836, 90), (1688, 4, 1720, 34), (1776, 73, 1808, 103), (1660, 76, 1691, 106), (1461, 186, 1493, 216), (1824, 1143, 1854, 1175), (1736, 1399, 1767, 1430), (1583, 1330, 1614, 1362), (1522, 1362, 1553, 1392), (1453, 973, 1484, 1003), (1518, 1346, 1548, 1378), (1539, 1290, 1571, 1320), (1529, 1021, 1560, 1051), (1454, 1410, 1484, 1442), (1539, 1316, 1569, 1348), (1518, 1292, 1550, 1322), (1684, 1016, 1716, 1046), (1463, 1440, 1493, 1472), (1442, 1458, 1472, 1490), (1491, 1633, 1522, 1665), (1591, 1698, 1622, 1729), (1631, 1782, 1661, 1813), (1458, 1447, 1488, 1479), (1483, 1559, 1514, 1589), (1449, 1463, 1481, 1493), (1497, 1902, 1529, 1932), (1440, 1819, 1470, 1851), (1484, 1874, 1514, 1905), (1437, 1856, 1467, 1888), (62, 51, 92, 81), (73, 60, 103, 90), (257, 391, 287, 421), (67, 363, 97, 393), (453, 4, 483, 34), (310, 448, 340, 478), (343, 78, 373, 108), (186, 370, 216, 400), (426, 426, 456, 456), (99, 81, 129, 111), (180, 177, 211, 207), (129, 412, 159, 442), (129, 124, 159, 154), (165, 188, 195, 218), (237, 94, 267, 124), (0, 288, 30, 318), (409, 159, 439, 189), (416, 57, 446, 87), (433, 46, 464, 76), (393, 90, 423, 120), (140, 85, 170, 115), (129, 366, 159, 396), (350, 299, 380, 329), (405, 287, 435, 317), (255, 126, 285, 156), (37, 405, 67, 435), (58, 60, 88, 90), (419, 161, 449, 191), (113, 127, 143, 157), (193, 412, 223, 442), (437, 73, 467, 103), (50, 173, 80, 203), (42, 50, 73, 80), (177, 433, 207, 464), (306, 902, 336, 932), (437, 814, 467, 844), (27, 492, 57, 522), (97, 621, 127, 651), (19, 495, 50, 525), (50, 755, 80, 786), (193, 936, 223, 966), (179, 702, 209, 732), (377, 911, 407, 941), (113, 683, 143, 713), (104, 699, 134, 729), (18, 731, 48, 761), (395, 543, 425, 573), (165, 479, 195, 510), (65, 628, 96, 658), (165, 1371, 195, 1401), (88, 1221, 119, 1251), (50, 1286, 80, 1316), (124, 1330, 154, 1361), (326, 1175, 356, 1205), (230, 1040, 260, 1070), (308, 1203, 338, 1233), (143, 1394, 173, 1424), (149, 1125, 179, 1155), (448, 1026, 478, 1056), (326, 1401, 356, 1431), (150, 1399, 180, 1430), (103, 1415, 133, 1445), (264, 1422, 294, 1453), (136, 1405, 166, 1435), (129, 1085, 159, 1115), (188, 1047, 218, 1077), (430, 1603, 460, 1633), (418, 1497, 448, 1527), (111, 1456, 142, 1486), (380, 1796, 410, 1826), (258, 1562, 288, 1592), (265, 1821, 295, 1851), (264, 1739, 294, 1769), (152, 1649, 182, 1679), (235, 1706, 265, 1736), (343, 1661, 373, 1691), (294, 1704, 324, 1734), (219, 1539, 249, 1569), (101, 1589, 131, 1619), (425, 1732, 455, 1762), (267, 1585, 297, 1615), (119, 1614, 149, 1644), (271, 1661, 301, 1691), (361, 1614, 391, 1644), (333, 1741, 363, 1771), (143, 1568, 173, 1598), (333, 1858, 363, 1888), (267, 1596, 297, 1626), (363, 1605, 393, 1635), (803, 120, 833, 150), (844, 119, 874, 149), (690, 108, 720, 138), (763, 108, 793, 138), (886, 241, 916, 271), (752, 198, 782, 228), (686, 706, 717, 736), (697, 736, 727, 766), (865, 823, 895, 853), (876, 915, 906, 945), (628, 824, 658, 855), (943, 497, 973, 527), (635, 846, 665, 876), (646, 920, 676, 950), (632, 1258, 662, 1288), (725, 1129, 755, 1159), (886, 1069, 916, 1099), (890, 985, 920, 1016), (823, 1154, 853, 1184), (685, 964, 715, 994), (793, 1134, 823, 1164), (860, 996, 890, 1026), (559, 1060, 589, 1090), (874, 1506, 904, 1536), (577, 1654, 607, 1684), (492, 1739, 522, 1769), (598, 1787, 628, 1817), (832, 1875, 862, 1905), (708, 1732, 738, 1762), (789, 1631, 819, 1661), (853, 1511, 883, 1541), (533, 1769, 563, 1799), (492, 1467, 522, 1497), (663, 1575, 694, 1605), (625, 1437, 655, 1467), (605, 1548, 635, 1578), (1207, 7, 1237, 37), (1219, 50, 1249, 80), (1180, 292, 1210, 322), (1152, 2, 1182, 32), (1205, 92, 1235, 122), (1207, 150, 1237, 180), (1056, 62, 1086, 92), (1079, 228, 1109, 258), (1178, 18, 1208, 48), (1076, 131, 1106, 161), (971, 800, 1001, 830), (991, 770, 1021, 800), (959, 796, 989, 826), (1035, 874, 1065, 904), (1085, 568, 1115, 598), (959, 847, 989, 878), (1166, 899, 1196, 929), (1000, 766, 1030, 796), (1104, 725, 1134, 755), (982, 800, 1012, 830), (1247, 943, 1277, 973), (1129, 761, 1159, 791), (993, 1203, 1023, 1233), (1007, 1226, 1037, 1256), (1320, 1223, 1350, 1253), (1010, 1238, 1040, 1269), (1012, 1219, 1042, 1249), (1062, 1178, 1092, 1208), (1325, 1235, 1355, 1265), (961, 1210, 991, 1240), (959, 998, 989, 1028), (1224, 1690, 1254, 1720), (1162, 1854, 1192, 1884), (1281, 1668, 1311, 1698), (1355, 1461, 1385, 1491), (1024, 1870, 1054, 1900), (1329, 1863, 1359, 1893), (1249, 1707, 1279, 1737), (1244, 1438, 1274, 1468), (1668, 71, 1698, 101), (1702, 7, 1732, 37), (1755, 27, 1785, 57), (1536, 419, 1566, 449), (1465, 152, 1495, 182), (1760, 62, 1790, 92), (1890, 228, 1920, 258), (1615, 826, 1645, 856), (1541, 1359, 1571, 1389), (1566, 1338, 1596, 1368), (1532, 1364, 1562, 1394), (1520, 1024, 1550, 1054), (1695, 982, 1725, 1012), (1488, 1283, 1518, 1313), (1460, 1461, 1490, 1491), (1569, 1847, 1599, 1877), (1679, 1468, 1709, 1499), (1445, 1649, 1476, 1679), (1750, 1461, 1780, 1491), (396, 12, 428, 41), (65, 264, 97, 292), (101, 736, 133, 764), (127, 1447, 156, 1479), (295, 1499, 324, 1530), (589, 490, 617, 522), (479, 1859, 508, 1891), (989, 832, 1021, 860), (1661, 170, 1693, 198), (1755, 1438, 1783, 1470), (264, 520, 292, 550), (359, 1361, 387, 1391), (989, 816, 1017, 846), (1154, 1859, 1184, 1888), (1545, 1093, 1573, 1123), (1437, 1888, 1463, 1920)
inflammatory: (138, 1576, 168, 1605)
lymphocyte: (686, 573, 718, 605), (1037, 931, 1069, 962), (991, 1502, 1023, 1534), (186, 941, 218, 971), (274, 1077, 304, 1109), (127, 1562, 157, 1594), (85, 1573, 117, 1603), (727, 19, 759, 50), (938, 899, 970, 929), (1115, 1076, 1146, 1106), (1414, 1709, 1444, 1741), (1637, 1813, 1667, 1845), (287, 1559, 317, 1589), (303, 1695, 333, 1725), (800, 842, 830, 872), (741, 796, 771, 826), (959, 80, 989, 110), (1047, 1044, 1077, 1074), (1023, 1684, 1053, 1714), (1090, 1548, 1120, 1578), (1148, 1840, 1178, 1870), (120, 1598, 150, 1626), (1424, 1888, 1453, 1918)
